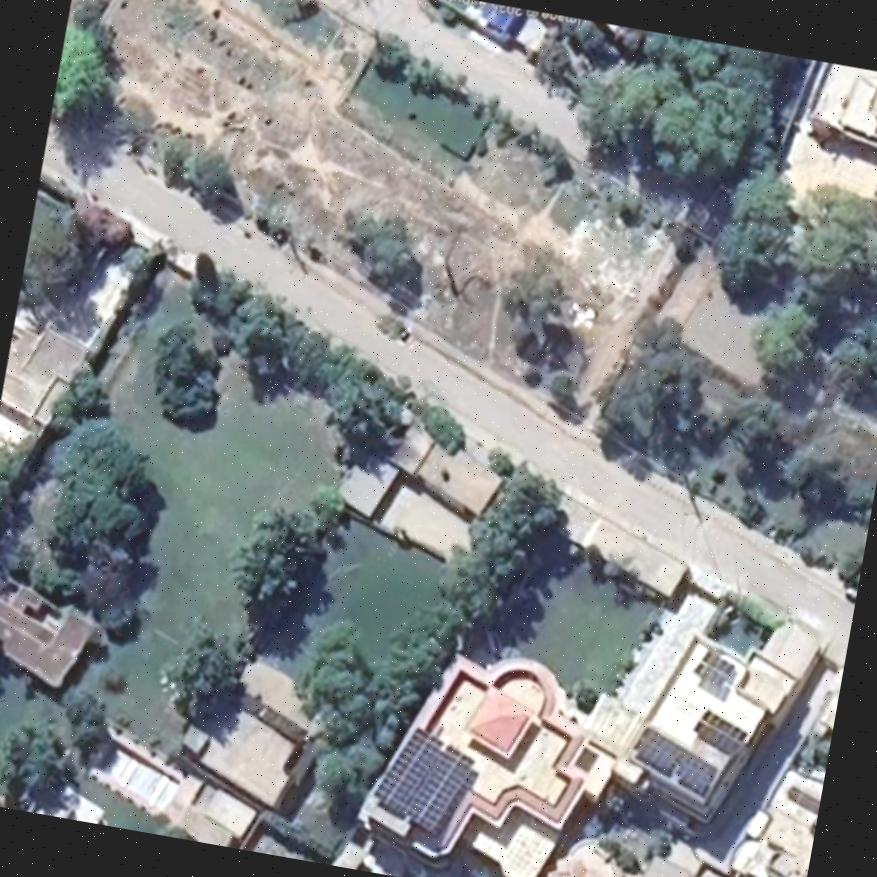Solarpanel: (371, 726, 473, 832), (629, 724, 716, 795), (691, 705, 746, 757), (694, 652, 730, 685)
